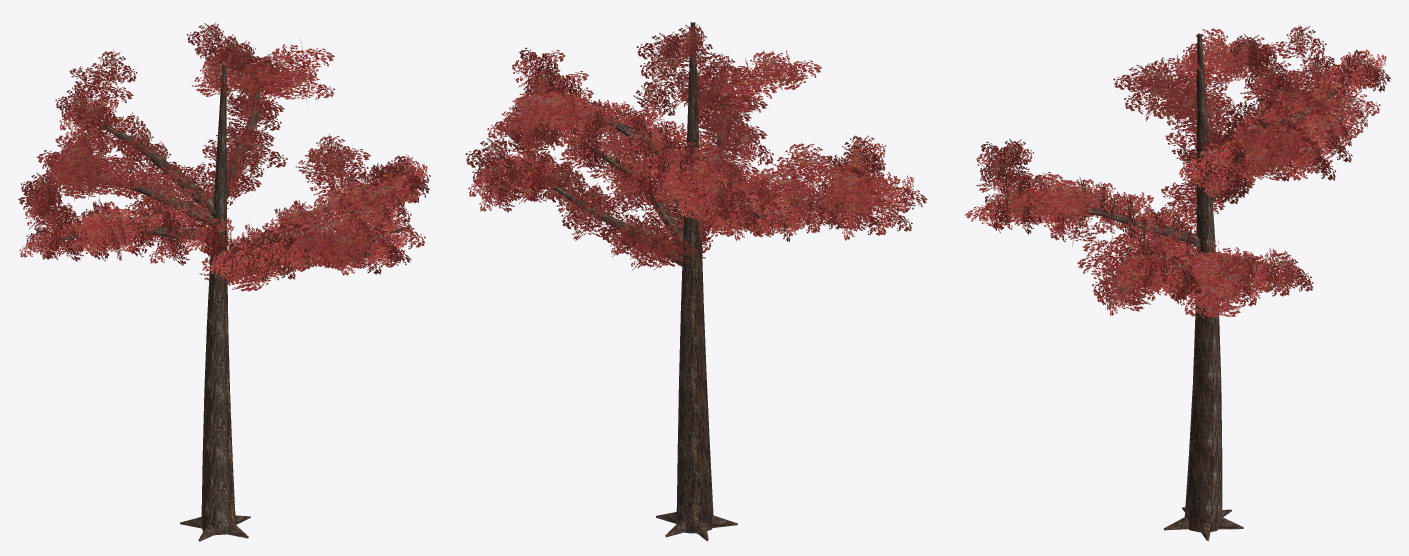
File: tree_3d_03_red_lod1.glb
3 views of the same model, side by side, from view 1: azimuth 30°, elevation 25°; view 2: azimuth 150°, elevation 25°; view 3: azimuth 270°, elevation 25° (orthographic). The views are drawn at different scales.
Parts seen in each view (by area): view 1: foliage_cards, wood_geometry; view 2: foliage_cards, wood_geometry; view 3: foliage_cards, wood_geometry.
Part boxes in pixels (x1=…): foliage_cards: x1=18, y1=22, x2=430, y2=291; wood_geometry: x1=54, y1=65, x2=410, y2=541; foliage_cards: x1=465, y1=24, x2=927, y2=270; wood_geometry: x1=521, y1=22, x2=884, y2=541; foliage_cards: x1=964, y1=25, x2=1390, y2=323; wood_geometry: x1=1017, y1=34, x2=1351, y2=540.
Bounding box in the file's own units: 9.89 × 10.63 × 8.38.
2 materials, 2 textured.
